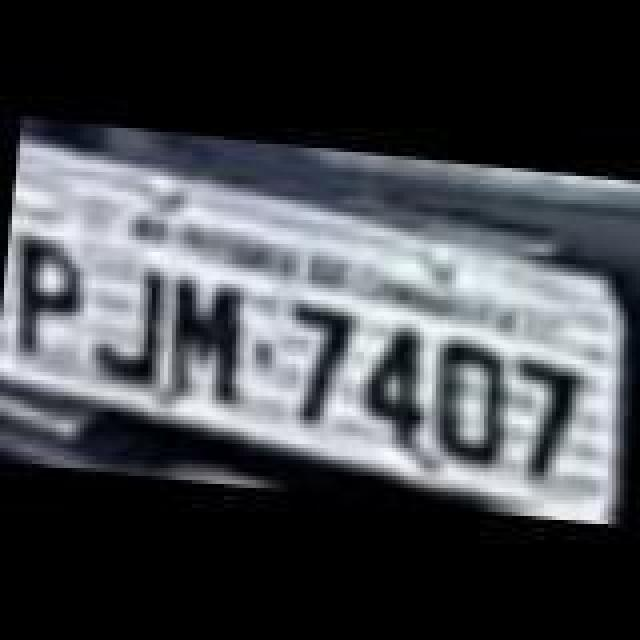4: (350, 316, 434, 452)
7: (270, 300, 354, 436), (494, 356, 578, 484)
J: (84, 252, 172, 388)
M: (160, 276, 248, 404)
O: (426, 332, 510, 468)
P: (6, 228, 90, 364)
